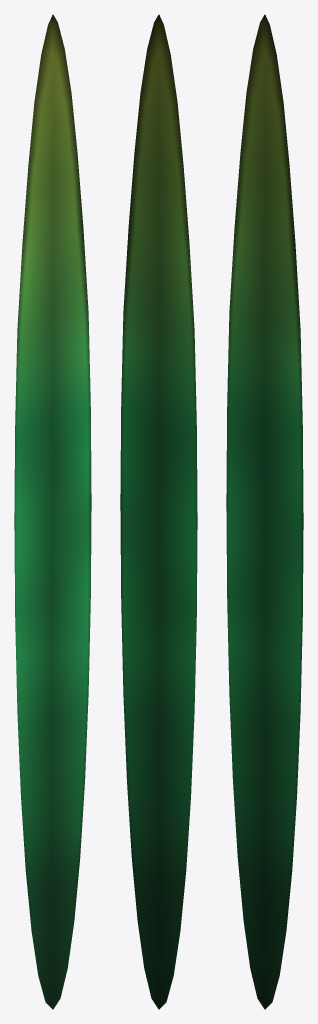
File: grass_blade.glb
The picture shows the model from 3 angles, left to right: view 1: azimuth 30°, elevation 25°; view 2: azimuth 150°, elevation 25°; view 3: azimuth 330°, elevation 25°; orthographic projection.
Visible parts, largest first — view 1: Circle; view 2: Circle; view 3: Circle.
Boxes of the visible parts, box(x1,y1,x2,y2) form: Circle: box(14, 14, 91, 1009); Circle: box(120, 14, 197, 1009); Circle: box(226, 14, 303, 1009).
Bounding box in the file's own units: 0.1621 × 2 × 1.51e-07.
Materials: 1 (1 with a texture image).
